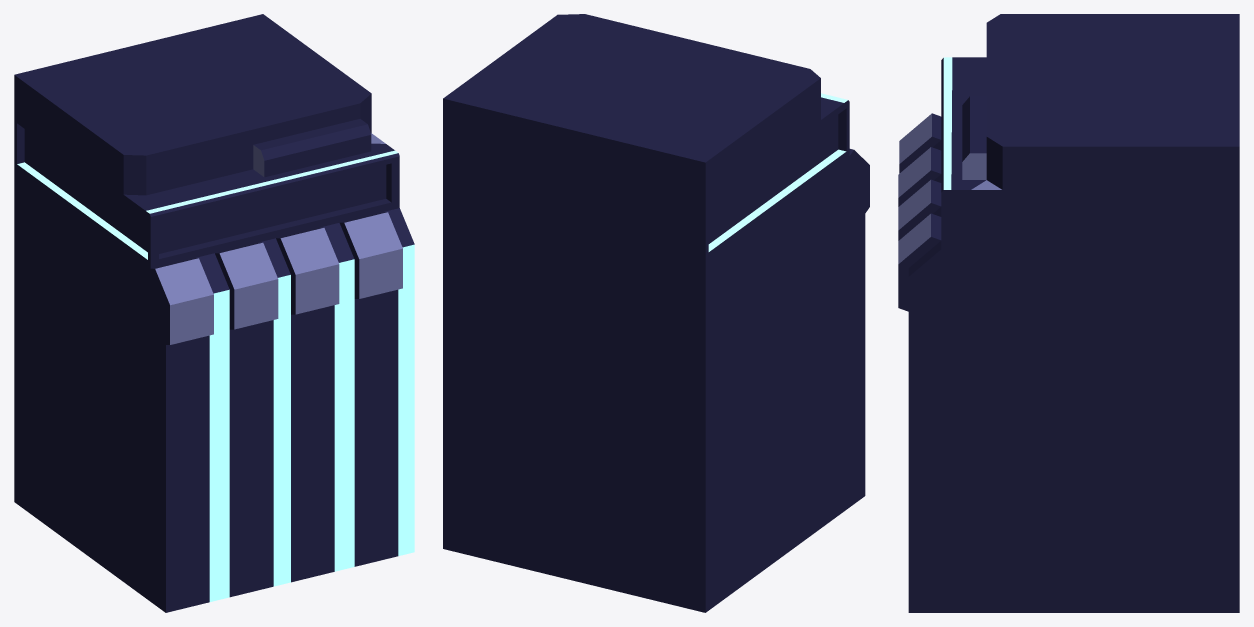
Rendered from Building 3_1.fbx.
3 views of the same model, side by side, from view 1: azimuth 30°, elevation 25°; view 2: azimuth 150°, elevation 25°; view 3: azimuth 270°, elevation 25° (orthographic). The views are drawn at different scales.
Parts seen in each view (by area): view 1: Cube.039; view 2: Cube.039; view 3: Cube.039.
Part boxes in pixels (x1,y1,x2,y2): Cube.039: [14, 14, 414, 612]; Cube.039: [443, 14, 869, 612]; Cube.039: [898, 14, 1239, 612].
Size of the model in its own units: 13.39 by 21.95 by 14.57.
